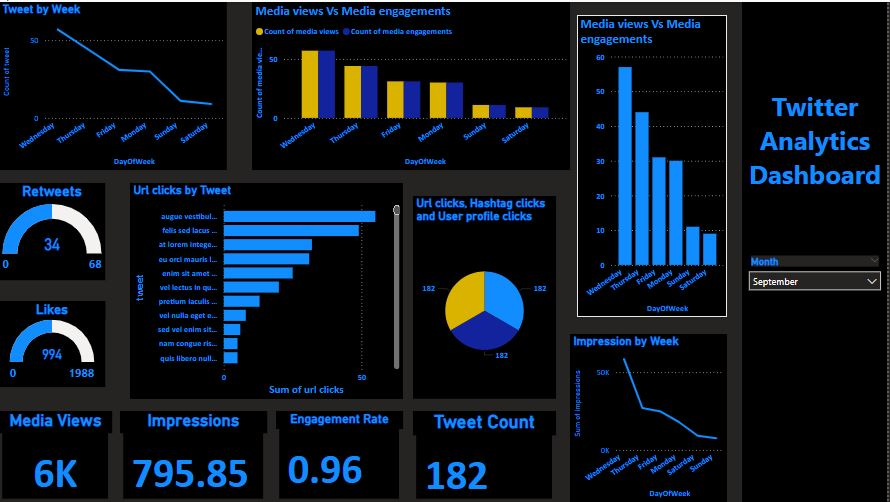

The dashboard page shown, as its layout file describes it:
{"tool":"powerbi","page":{"name":"Main","canvas":[1280,720],"ordinal":0},"visuals":[{"type":"textbox","box":[1069.9,0,210.2,720],"z":0},{"type":"cardVisual","title":"Media Views","fields":{"Data":["Sum(SocialMedia (1).media views)"]},"box":[0,589,162.7,131],"z":1000},{"type":"cardVisual","title":"Impressions","fields":{"Data":["Avg(SocialMedia (1).impressions)"]},"box":[174.2,589,211.7,131],"z":2000},{"type":"cardVisual","title":"Tweet Count","fields":{"Data":["Count(SocialMedia (1).tweet)"]},"box":[596.2,589,205.9,131],"z":3000},{"type":"cardVisual","title":"Engagement Rate","fields":{"Data":["Avg(SocialMedia (1).engagement rate)"]},"box":[398.9,589,182.9,131],"z":4000},{"type":"gauge","title":"Likes","fields":{"Y":["Sum(SocialMedia (1).likes)"]},"box":[0,430.6,152.6,123.8],"z":5000},{"type":"gauge","title":"Retweets","fields":{"Y":["Sum(SocialMedia (1).retweets)"]},"box":[0,260.6,152.6,139.7],"z":6000},{"type":"slicer","fields":{"Values":["SocialMedia (1).MonthName"]},"box":[1069.9,360,210.2,54.7],"z":7000},{"type":"lineChart","title":"Tweet by Week","fields":{"Category":["SocialMedia (1).DayOfWeek"],"Y":["CountNonNull(SocialMedia (1).tweet)"]},"box":[0,0,328.3,241.9],"z":8000},{"type":"lineChart","title":"Impression by Week","fields":{"Category":["SocialMedia (1).DayOfWeek"],"Y":["Sum(SocialMedia (1).impressions)"]},"box":[822.2,478.1,226.1,241.9],"z":9000},{"type":"clusteredBarChart","title":" Url clicks by Tweet","fields":{"Category":["SocialMedia (1).tweet"],"Y":["Sum(SocialMedia (1).url clicks)"]},"box":[188.6,260.6,393.1,311],"z":10000},{"type":"pieChart","title":" Url clicks, Hashtag clicks and User profile clicks","fields":{"Y":["CountNonNull(SocialMedia (1).url clicks)","CountNonNull(SocialMedia (1).hashtag clicks)","CountNonNull(SocialMedia (1).user profile clicks)"]},"box":[596.2,279.4,205.9,292.3],"z":11000},{"type":"clusteredColumnChart","title":"Media views Vs Media engagements ","fields":{"Category":["SocialMedia (1).DayOfWeek"],"Y":["CountNonNull(SocialMedia (1).media views)","CountNonNull(SocialMedia (1).media engagements)"]},"box":[364.3,0,457.9,241.9],"z":12000},{"type":"clusteredColumnChart","title":"Media views Vs Media engagements ","fields":{"Category":["SocialMedia (1).DayOfWeek"],"Y":["CountNonNull(SocialMedia (1).tweet)"]},"box":[832.3,18.7,216,434.9],"z":13000}]}

Visuals, with their boxes in screenshot pixels (x1, y1, x2, y2), scaled from the page's 1280x720 canvas onto the 890x502 screenshot:
textbox: 744 0 889 501
"Media Views" cardVisual: 0 411 113 501
"Impressions" cardVisual: 121 411 268 501
"Tweet Count" cardVisual: 415 411 558 501
"Engagement Rate" cardVisual: 277 411 405 501
"Likes" gauge: 0 300 106 387
"Retweets" gauge: 0 182 106 279
slicer - SocialMedia (1).MonthName: 744 251 889 289
"Tweet by Week" lineChart: 0 0 228 169
"Impression by Week" lineChart: 572 333 729 501
" Url clicks by Tweet" clusteredBarChart: 131 182 404 399
" Url clicks, Hashtag clicks and User profile clicks" pieChart: 415 195 558 399
"Media views Vs Media engagements " clusteredColumnChart: 253 0 572 169
"Media views Vs Media engagements " clusteredColumnChart: 579 13 729 316
